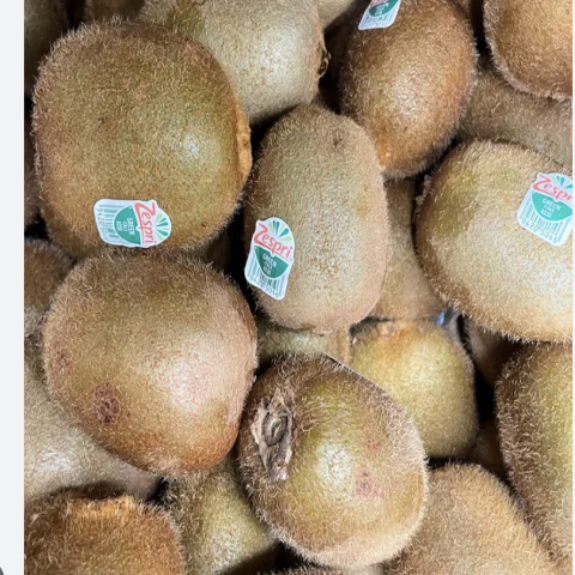kiwi: (28, 19, 270, 277), (38, 226, 279, 479), (198, 362, 461, 569), (237, 99, 413, 359), (415, 113, 575, 350)
